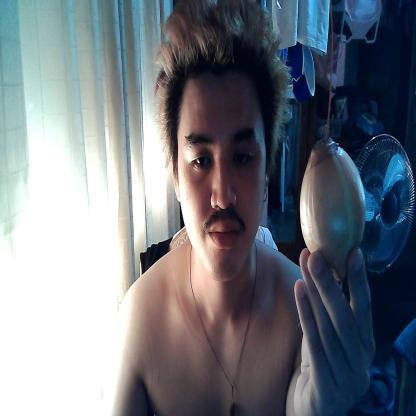onion: (300, 138, 368, 282)
